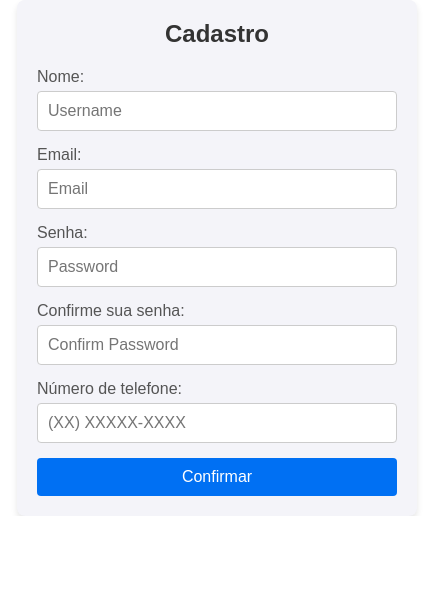
Test: CadastroForm › deve validar que as senhas correspondem
The width and height of the screenshot is (435, 609).
In the password field labelled "Senha:": [217, 267] box [37,247,397,287], type "123456"
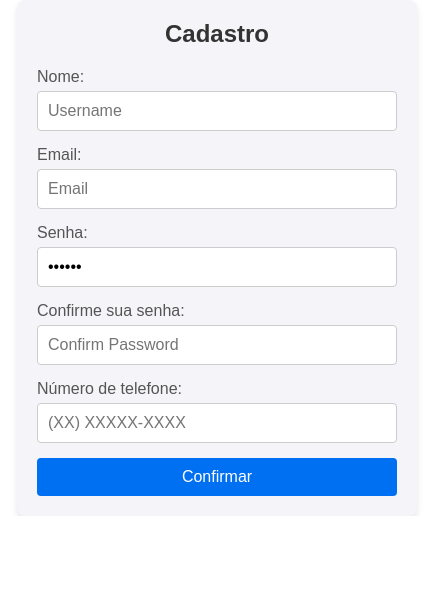
In the password field labelled "Confirme sua senha:": [217, 345] box [37,325,397,365], type "654321"
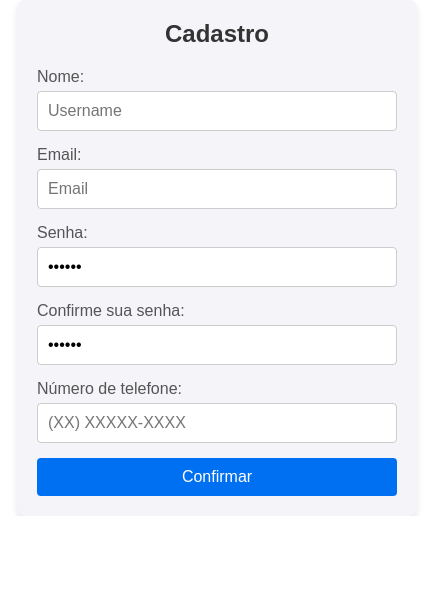
Click the button "Confirmar": [217, 477] box [37,458,397,496]
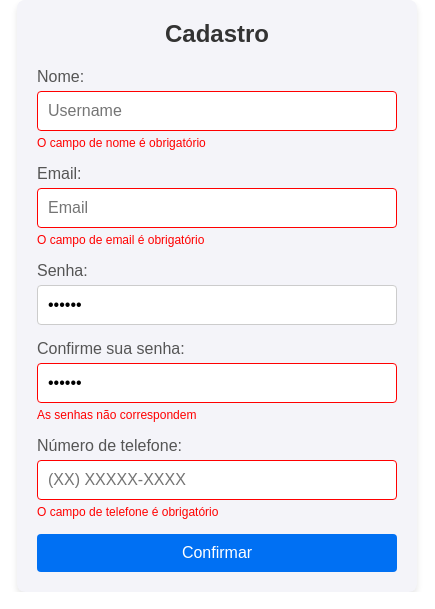
Now the text "As senhas não correspondem" is shown, box [37,408,196,422]
